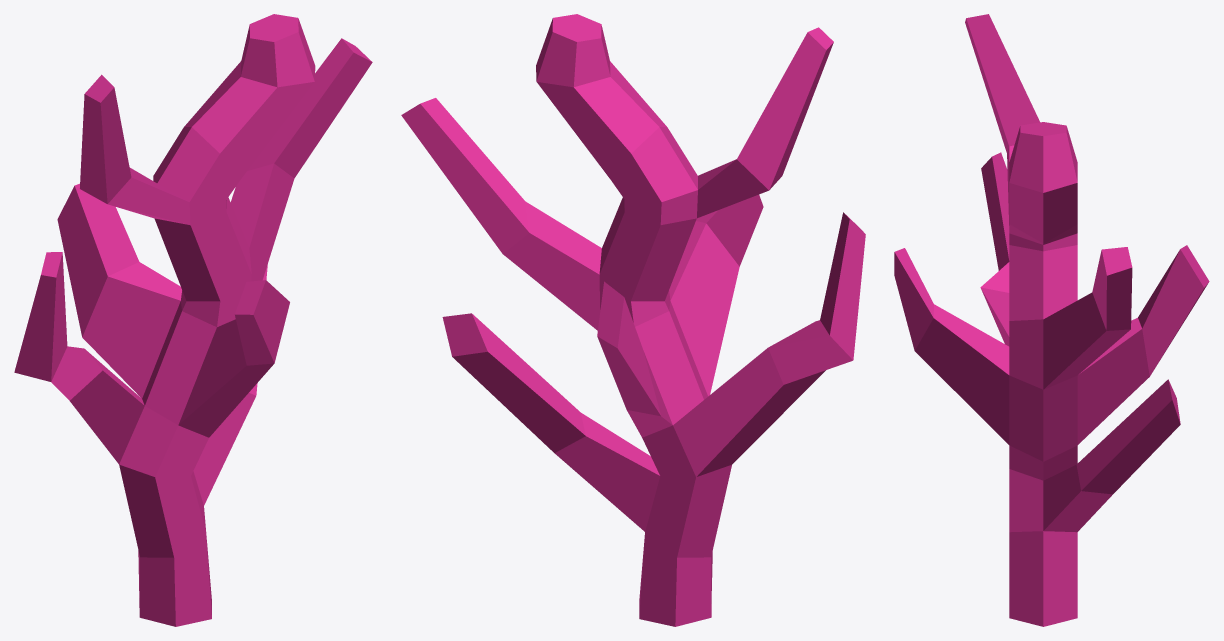
Rendered from CoralPink.FBX.
3 views of the same model, side by side, from view 1: azimuth 30°, elevation 25°; view 2: azimuth 150°, elevation 25°; view 3: azimuth 270°, elevation 25° (orthographic). The views are drawn at different scales.
Parts seen in each view (by area): view 1: CoralPink; view 2: CoralPink; view 3: CoralPink.
Boxes of the visible parts, x1,y1,x2,y2 form: CoralPink: (14,14,372,626); CoralPink: (401,14,865,626); CoralPink: (894,14,1209,626).
Size of the model in its own units: 27.64 by 38.42 by 19.99.
